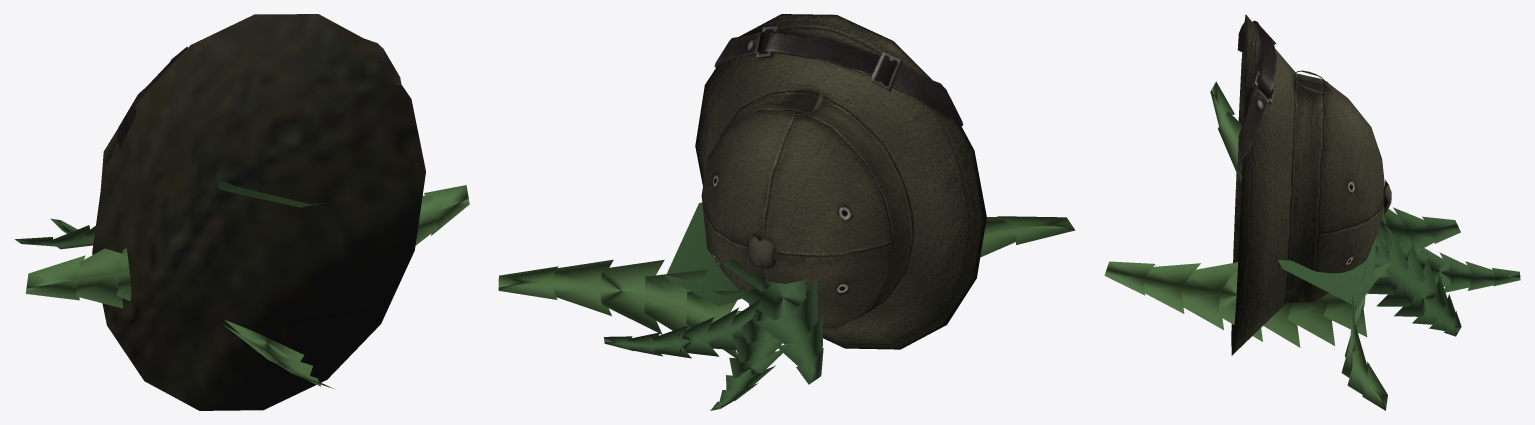
File: pith_worn_foliage.glb
The picture shows the model from 3 angles, left to right: view 1: azimuth 30°, elevation 25°; view 2: azimuth 150°, elevation 25°; view 3: azimuth 270°, elevation 25°; orthographic projection. The views are drawn at different scales.
Visible parts, largest first — view 1: pith_worn_foliage, pith_worn_foliage_sprig_5, pith_worn_foliage_sprig_4, pith_worn_foliage_sprig_1, pith_worn_foliage_sprig_0, pith_worn_foliage_sprig_2; view 2: pith_worn_foliage, pith_worn_foliage_sprig_4, pith_worn_foliage_sprig_0, pith_worn_foliage_sprig_3, pith_worn_foliage_sprig_2, pith_worn_foliage_sprig_6, pith_worn_foliage_sprig_5; view 3: pith_worn_foliage, pith_worn_foliage_sprig_1, pith_worn_foliage_sprig_3, pith_worn_foliage_sprig_6, pith_worn_foliage_sprig_0, pith_worn_foliage_sprig_2, pith_worn_foliage_sprig_4, pith_worn_foliage_sprig_5.
Boxes of the visible parts, bbox=[...] form: pith_worn_foliage: bbox=[92, 14, 425, 410]; pith_worn_foliage_sprig_5: bbox=[25, 247, 131, 308]; pith_worn_foliage_sprig_4: bbox=[415, 185, 469, 245]; pith_worn_foliage_sprig_1: bbox=[224, 320, 333, 388]; pith_worn_foliage_sprig_0: bbox=[15, 225, 95, 249]; pith_worn_foliage_sprig_2: bbox=[217, 177, 323, 207]; pith_worn_foliage: bbox=[695, 14, 986, 349]; pith_worn_foliage_sprig_4: bbox=[498, 259, 742, 358]; pith_worn_foliage_sprig_0: bbox=[722, 259, 823, 384]; pith_worn_foliage_sprig_3: bbox=[604, 298, 761, 358]; pith_worn_foliage_sprig_2: bbox=[665, 202, 746, 306]; pith_worn_foliage_sprig_6: bbox=[710, 303, 789, 410]; pith_worn_foliage_sprig_5: bbox=[980, 216, 1075, 257]; pith_worn_foliage: bbox=[1231, 14, 1391, 355]; pith_worn_foliage_sprig_1: bbox=[1104, 261, 1391, 347]; pith_worn_foliage_sprig_3: bbox=[1367, 232, 1461, 336]; pith_worn_foliage_sprig_6: bbox=[1375, 232, 1520, 292]; pith_worn_foliage_sprig_0: bbox=[1377, 206, 1460, 253]; pith_worn_foliage_sprig_2: bbox=[1278, 238, 1375, 306]; pith_worn_foliage_sprig_4: bbox=[1341, 260, 1387, 410]; pith_worn_foliage_sprig_5: bbox=[1210, 81, 1242, 183].
Bounding box in the file's own units: 0.4607 × 0.31 × 0.3712.
2 materials, 2 textured.
